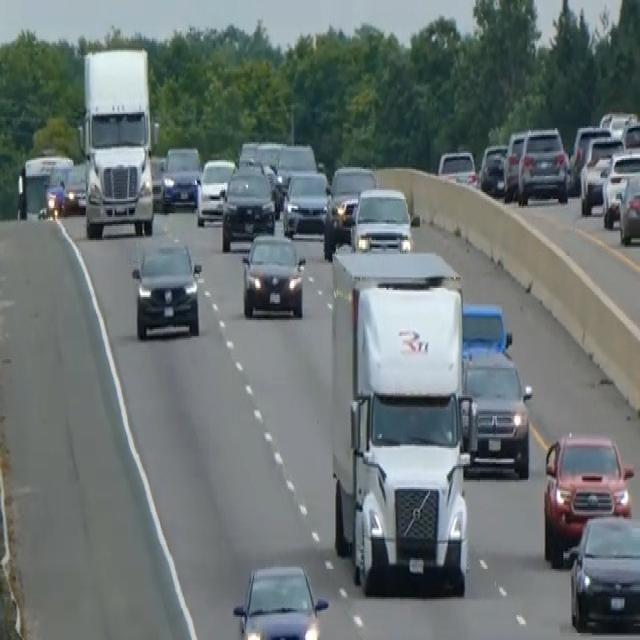car: (542, 430, 634, 566), (461, 345, 532, 478), (567, 510, 639, 631), (231, 560, 329, 638), (130, 233, 202, 339), (240, 230, 306, 318), (323, 162, 377, 254), (220, 162, 276, 250), (350, 185, 415, 252), (516, 124, 569, 204), (578, 133, 623, 215), (281, 167, 330, 238), (601, 148, 639, 228), (568, 123, 611, 192), (461, 300, 512, 358), (195, 154, 235, 226), (160, 144, 201, 210), (275, 140, 317, 187), (502, 128, 526, 201), (616, 169, 639, 245), (44, 160, 73, 217), (478, 142, 508, 196), (437, 148, 477, 188), (62, 162, 86, 213), (254, 138, 284, 170), (237, 137, 259, 165)
lorry: (329, 270, 478, 598), (77, 45, 155, 238)
